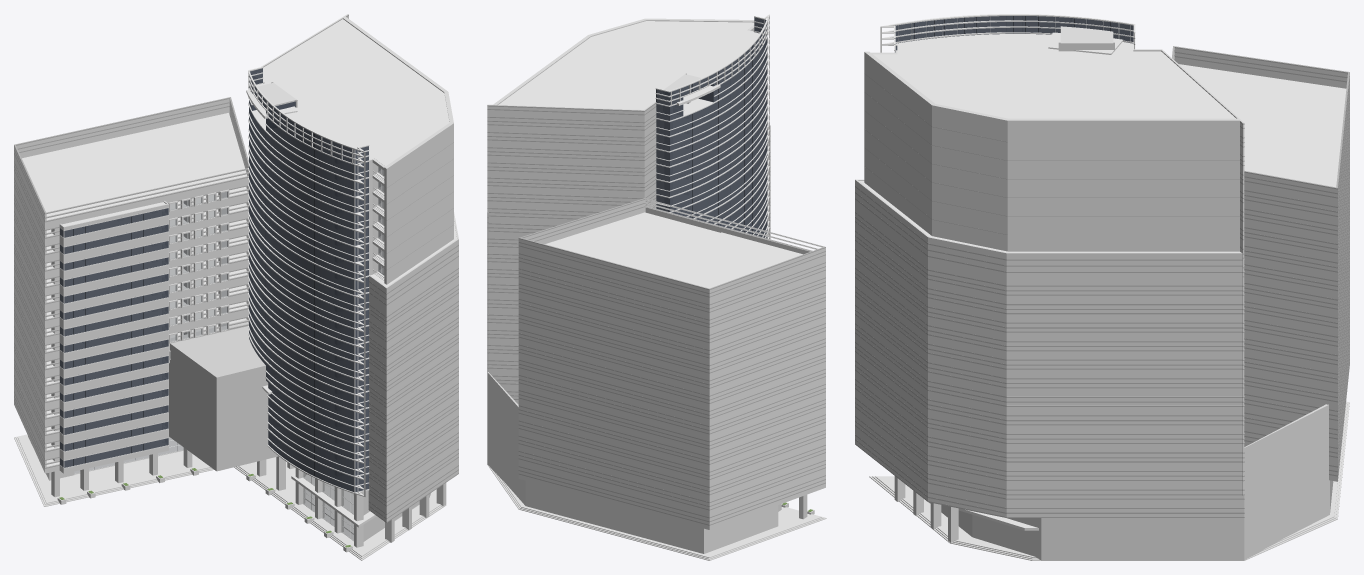
The picture shows the model from 3 angles, left to right: view 1: azimuth 30°, elevation 25°; view 2: azimuth 150°, elevation 25°; view 3: azimuth 270°, elevation 25°; orthographic projection. The views are drawn at different scales.
Parts seen in each view (by area): view 1: 3DSMeshMatrix.038, 3DSMeshMatrix.041, 3DSMeshMatrix.063, 3DSMeshMatrix.066, 3DSMeshMatrix.062, Cube, 3DSMeshMatrix.056, 3DSMeshMatrix.040, 3DSMeshMatrix.058, 3DSMeshMatrix.032, 3DSMeshMatrix.057; view 2: 3DSMeshMatrix.038, 3DSMeshMatrix.062, 3DSMeshMatrix.063, 3DSMeshMatrix.041, 3DSMeshMatrix.066, 3DSMeshMatrix.056, 3DSMeshMatrix.058, 3DSMeshMatrix.057, 3DSMeshMatrix.042; view 3: 3DSMeshMatrix.038, 3DSMeshMatrix.062, 3DSMeshMatrix.063, 3DSMeshMatrix.041, 3DSMeshMatrix.066, 3DSMeshMatrix.060, 3DSMeshMatrix.056, 3DSMeshMatrix.058, 3DSMeshMatrix.057.
Part boxes in pixels (x1=…): 3DSMeshMatrix.038: x1=14, y1=14, x2=458, y2=541; 3DSMeshMatrix.041: x1=60, y1=68, x2=368, y2=492; 3DSMeshMatrix.063: x1=22, y1=19, x2=457, y2=527; 3DSMeshMatrix.066: x1=59, y1=66, x2=384, y2=540; 3DSMeshMatrix.062: x1=14, y1=15, x2=458, y2=522; Cube: x1=169, y1=319, x2=278, y2=471; 3DSMeshMatrix.056: x1=17, y1=434, x2=440, y2=556; 3DSMeshMatrix.040: x1=74, y1=167, x2=384, y2=540; 3DSMeshMatrix.058: x1=14, y1=437, x2=446, y2=560; 3DSMeshMatrix.032: x1=51, y1=227, x2=59, y2=497; 3DSMeshMatrix.057: x1=15, y1=436, x2=442, y2=558; 3DSMeshMatrix.038: x1=487, y1=18, x2=825, y2=553; 3DSMeshMatrix.062: x1=487, y1=103, x2=825, y2=525; 3DSMeshMatrix.063: x1=498, y1=21, x2=802, y2=288; 3DSMeshMatrix.041: x1=656, y1=17, x2=767, y2=238; 3DSMeshMatrix.066: x1=655, y1=14, x2=769, y2=238; 3DSMeshMatrix.056: x1=501, y1=479, x2=821, y2=557; 3DSMeshMatrix.058: x1=487, y1=464, x2=826, y2=560; 3DSMeshMatrix.057: x1=494, y1=471, x2=824, y2=559; 3DSMeshMatrix.042: x1=656, y1=19, x2=765, y2=234; 3DSMeshMatrix.038: x1=855, y1=26, x2=1349, y2=560; 3DSMeshMatrix.062: x1=855, y1=46, x2=1349, y2=517; 3DSMeshMatrix.063: x1=859, y1=34, x2=1346, y2=530; 3DSMeshMatrix.041: x1=895, y1=16, x2=1133, y2=52; 3DSMeshMatrix.066: x1=880, y1=14, x2=1135, y2=52; 3DSMeshMatrix.060: x1=864, y1=73, x2=1239, y2=234; 3DSMeshMatrix.056: x1=875, y1=402, x2=1346, y2=557; 3DSMeshMatrix.058: x1=869, y1=402, x2=1349, y2=560; 3DSMeshMatrix.057: x1=872, y1=401, x2=1347, y2=559.
Size of what is drawn, in the model's own units: 7.49 by 8.6 by 8.47.
